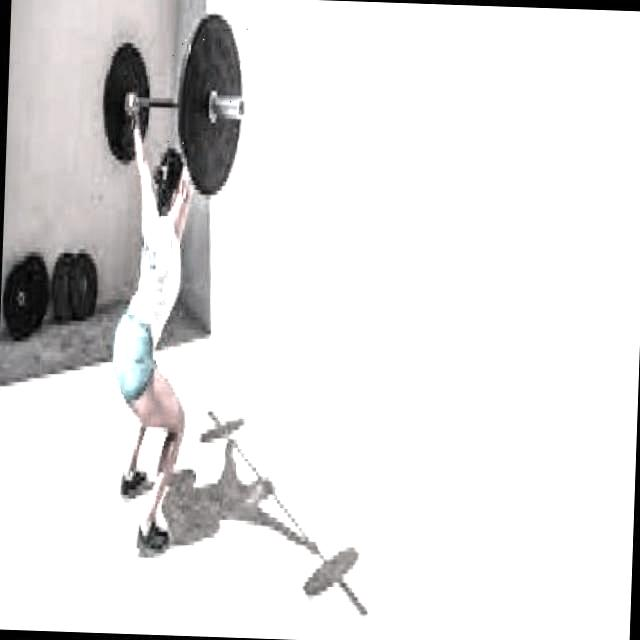barbell: (165, 3, 263, 203)
